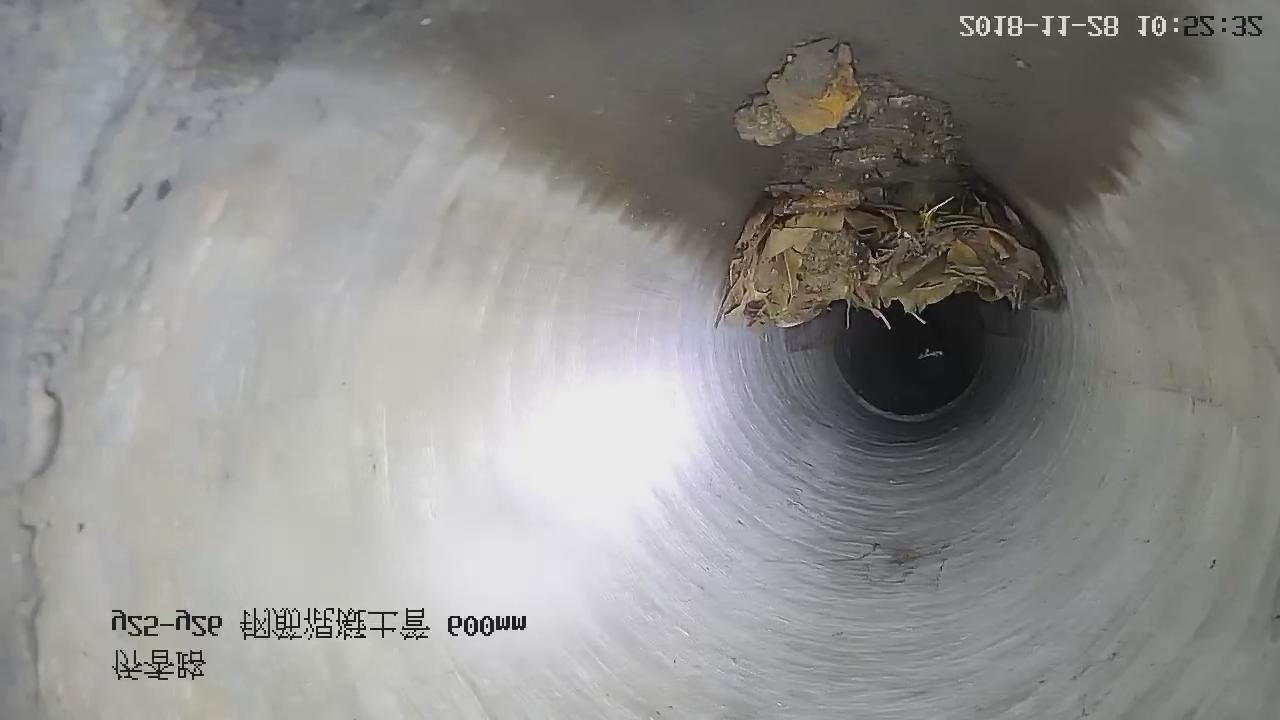ZAW: (716, 39, 1060, 332)
